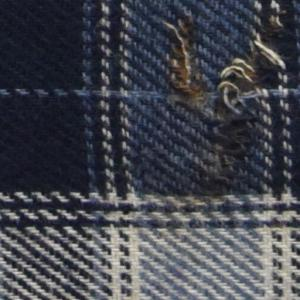Damage: (164, 7, 300, 209)
Oil Stain: (168, 10, 290, 105)
